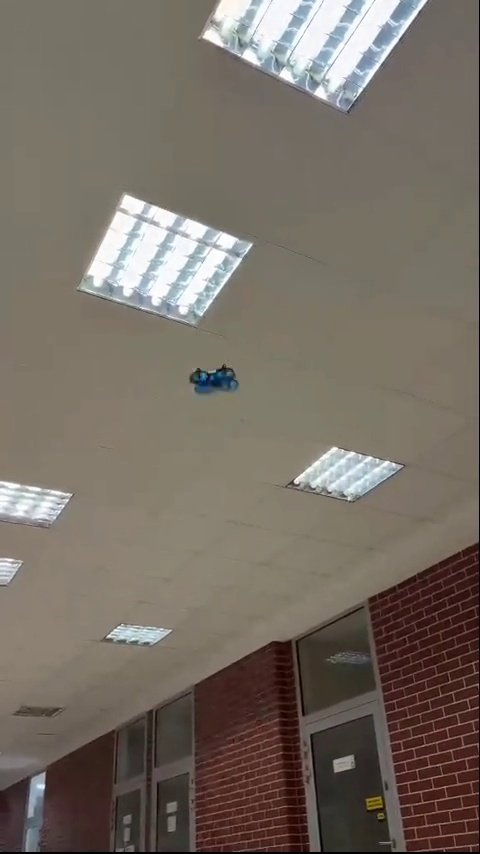drone: (186, 361, 242, 396)
